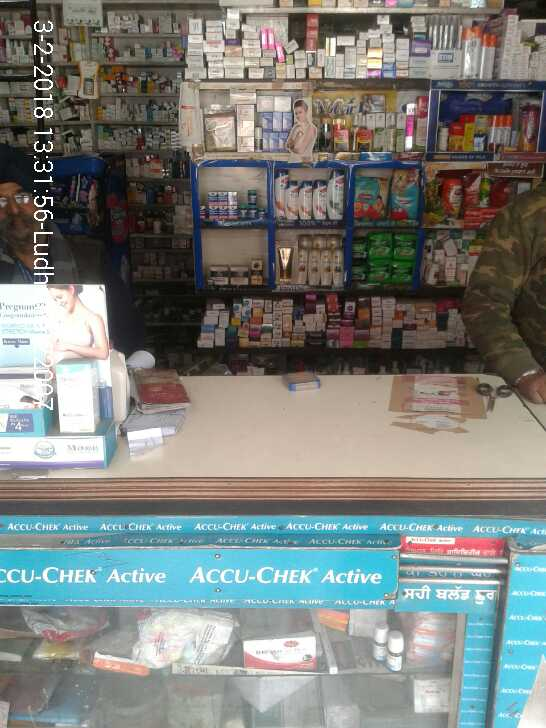vicks: (198, 187, 269, 226)
